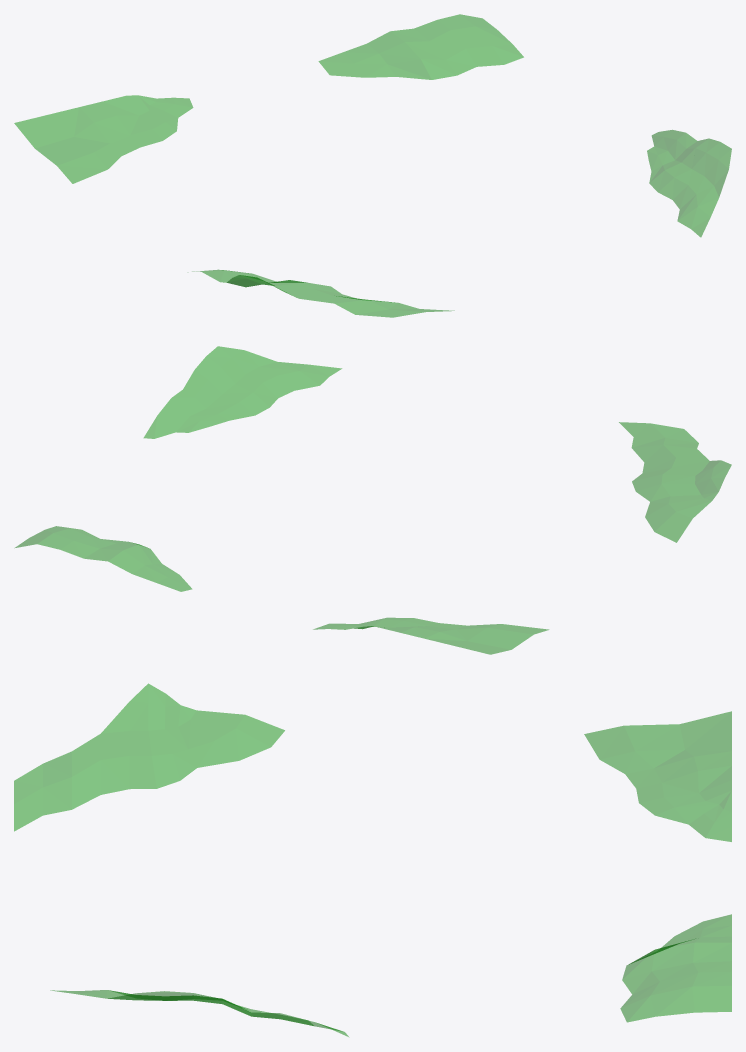
File: stg121_C_hit.polymsh_extracted1007.obj
3 views of the same model, one above another, from view 1: azimuth 30°, elevation 25°; view 2: azimuth 150°, elevation 25°; view 3: azimuth 270°, elevation 25° (orthographic). The views are drawn at different scales.
Bounding box in the file's own units: 41 × 2.92 × 40.5.
